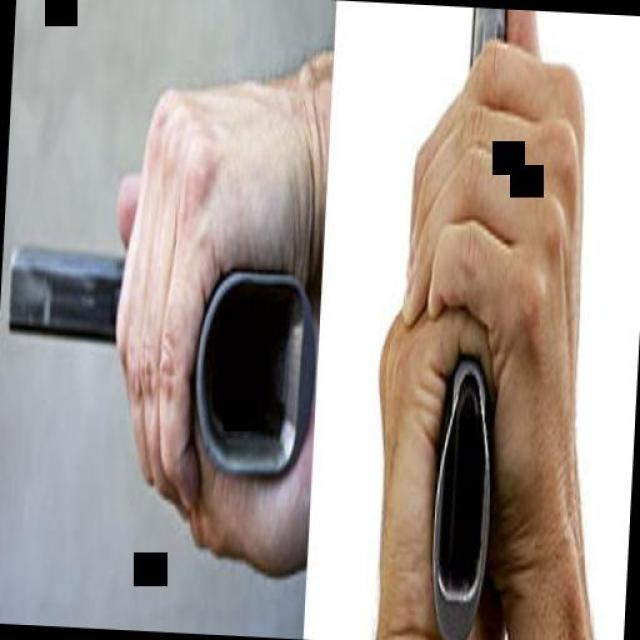gun: (0, 228, 316, 492), (415, 9, 530, 635)
